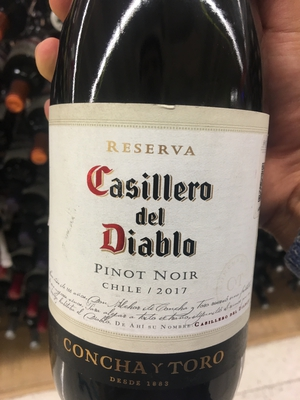casillero del diablo pinot noir: (41, 8, 264, 400)
